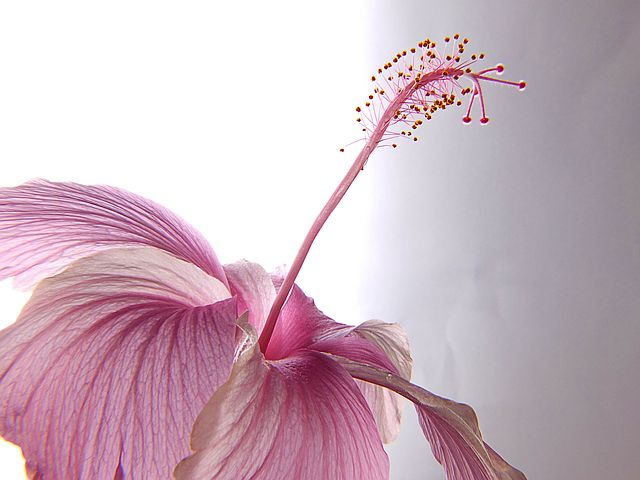Hibiscus: (1, 29, 595, 472)
